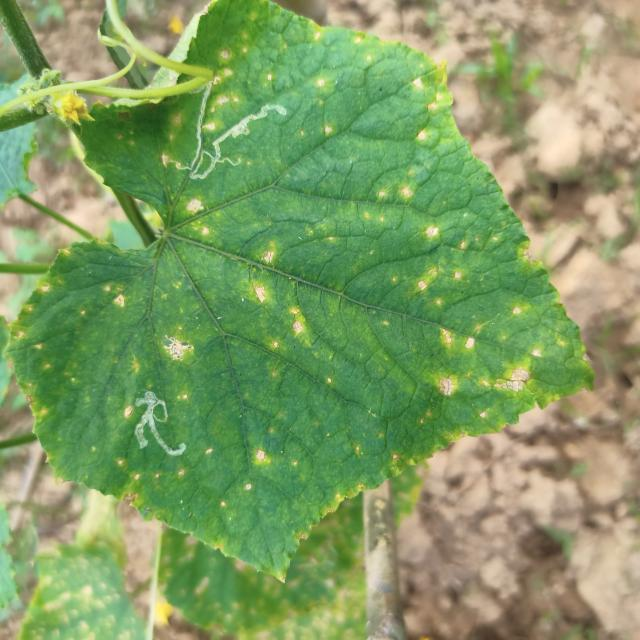disease_cucumber: (358, 106, 566, 447), (143, 23, 424, 245), (20, 239, 322, 396), (106, 421, 276, 504)
